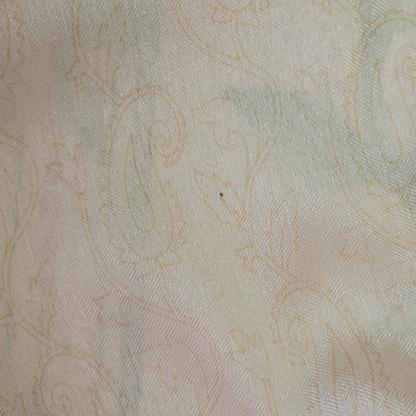spot: (216, 182, 225, 200)
